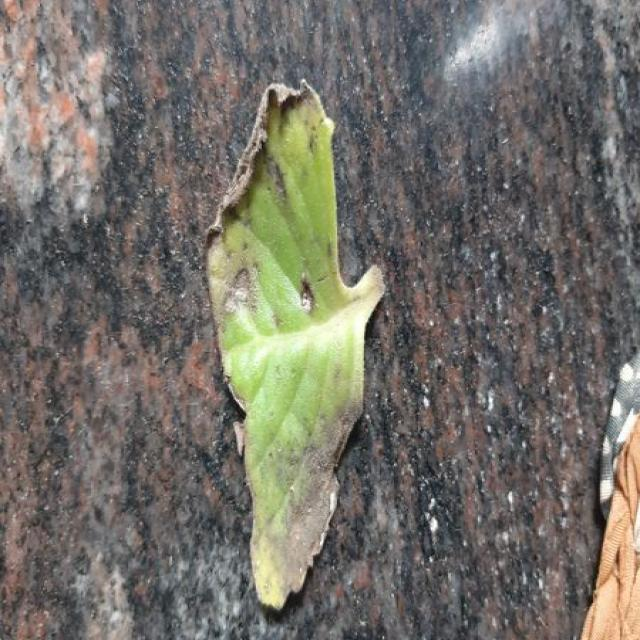doddpathre: (207, 85, 385, 608)
